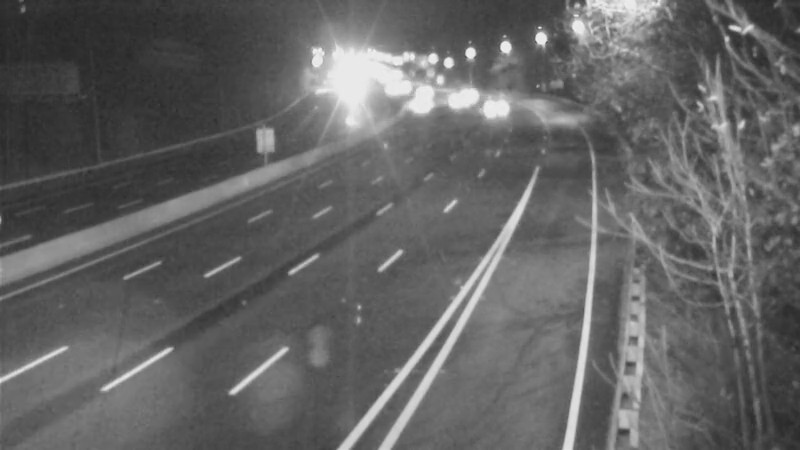vehicle: (369, 64, 419, 114), (398, 68, 448, 118), (443, 70, 493, 120), (431, 74, 481, 124), (394, 83, 444, 133), (469, 83, 519, 133)
